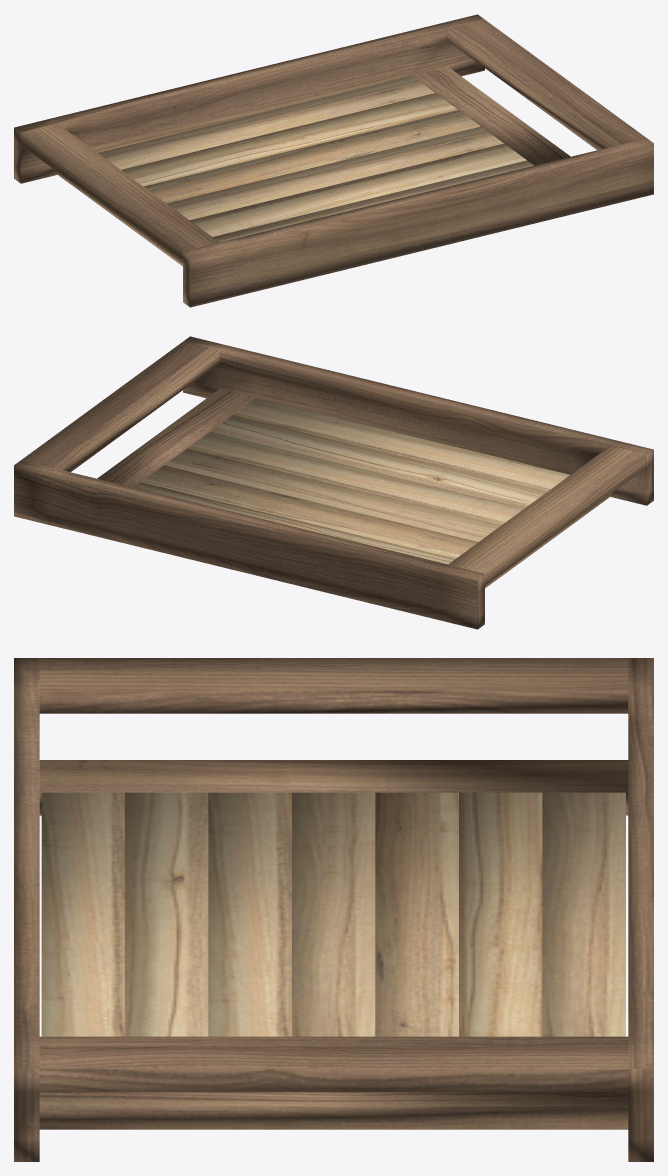
Rendered from wooden-serving-tray-web-512.glb.
The picture shows the model from 3 angles, top to bottom: view 1: azimuth 30°, elevation 25°; view 2: azimuth 150°, elevation 25°; view 3: azimuth 270°, elevation 25°; orthographic projection. The views are drawn at different scales.
Visible parts, largest first — view 1: Wooden Serving Tray 38x25x4, Plane.001; view 2: Wooden Serving Tray 38x25x4, Plane.001; view 3: Plane.001, Wooden Serving Tray 38x25x4.
Part boxes in pixels (x1,y1,x2,y2): Wooden Serving Tray 38x25x4: (14,14,653,307); Plane.001: (98,76,533,242); Wooden Serving Tray 38x25x4: (14,336,653,629); Plane.001: (134,398,569,564); Plane.001: (41,792,625,1036); Wooden Serving Tray 38x25x4: (14,658,653,1161).
Bounding box in the file's own units: 0.38 × 0.04 × 0.25.
2 materials, 2 textured.
